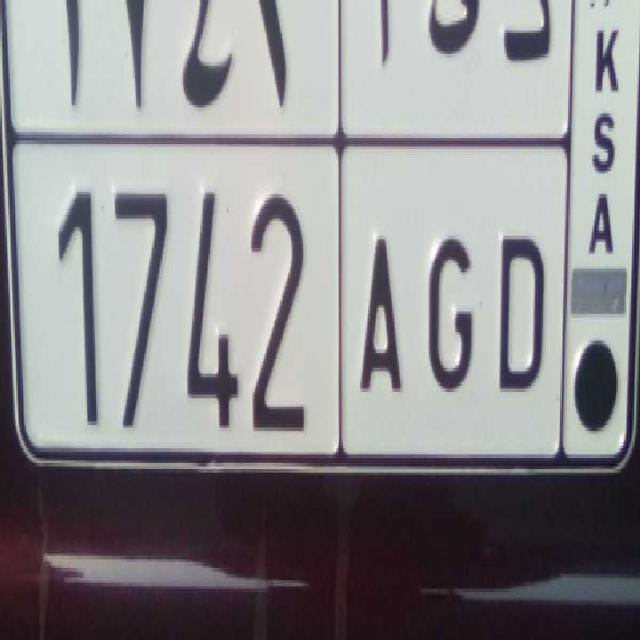license_plate: (24, 132, 562, 456)
